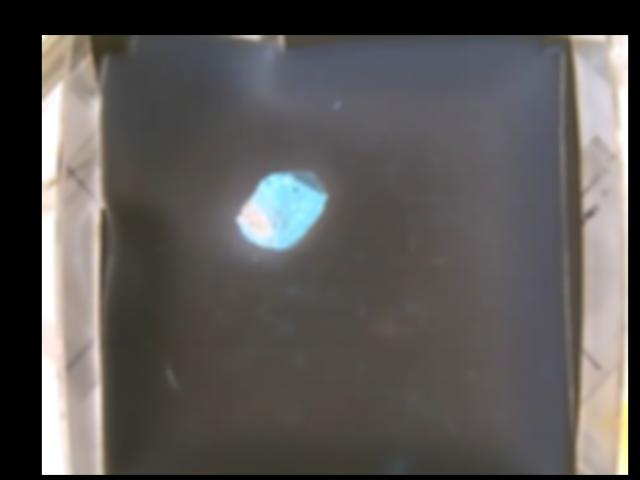Brisk: (236, 172, 324, 251)
